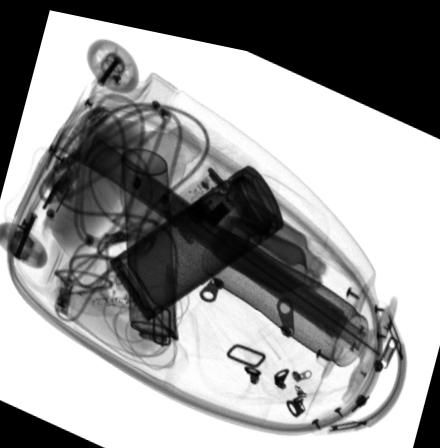Sprayer: (119, 140, 178, 363)
